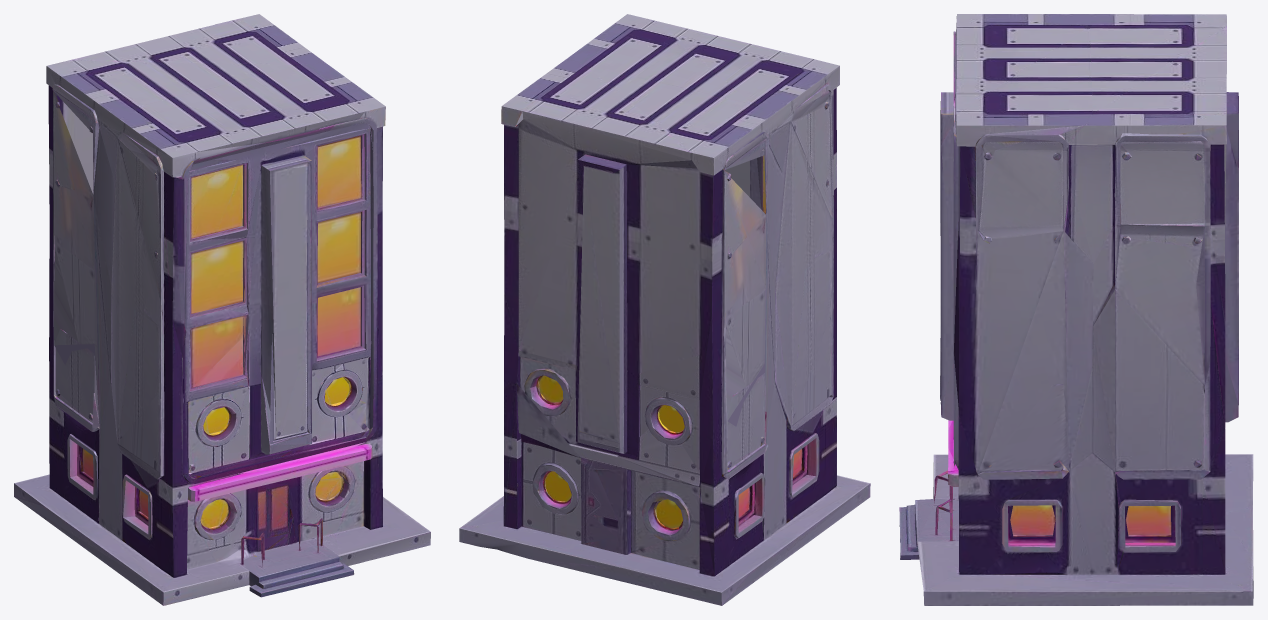
File: predio-c.glb
3 views of the same model, side by side, from view 1: azimuth 30°, elevation 25°; view 2: azimuth 150°, elevation 25°; view 3: azimuth 270°, elevation 25° (orthographic). The views are drawn at different scales.
Bounding box in the file's own units: 1.2 × 1.9 × 1.31.
1 material, 1 textured.
